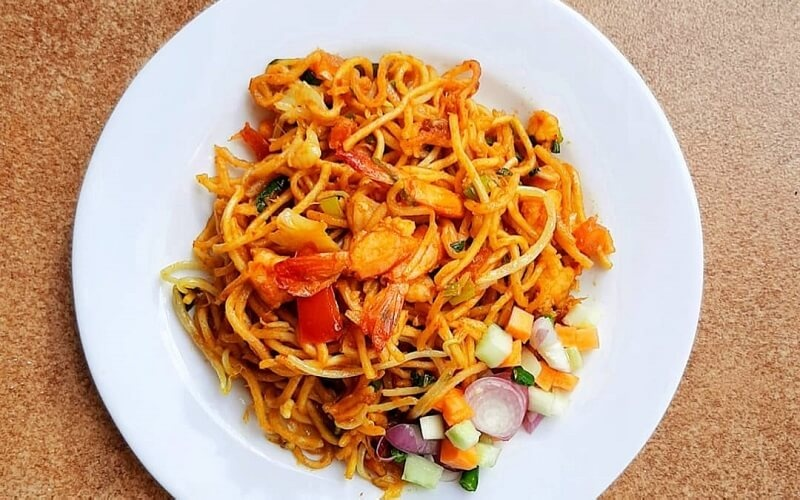mie_aceh: (160, 52, 610, 500)
